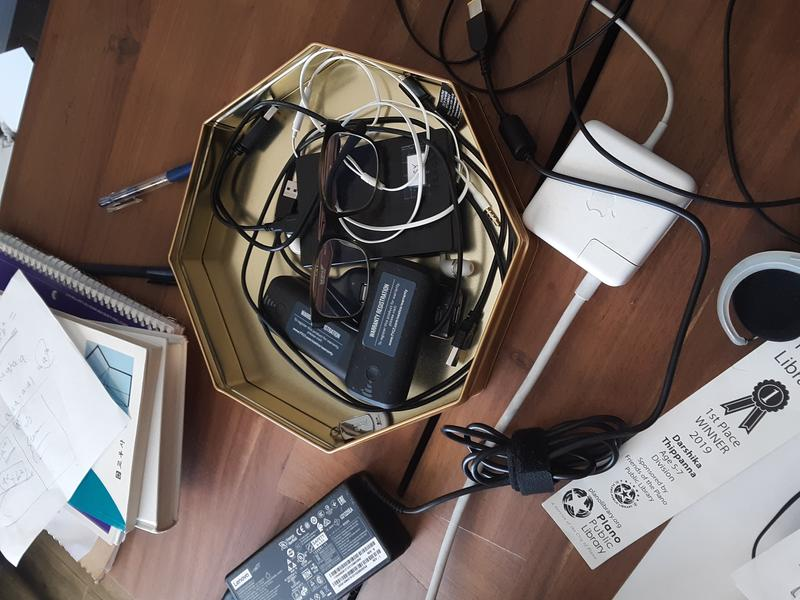glasses: (311, 119, 379, 331)
